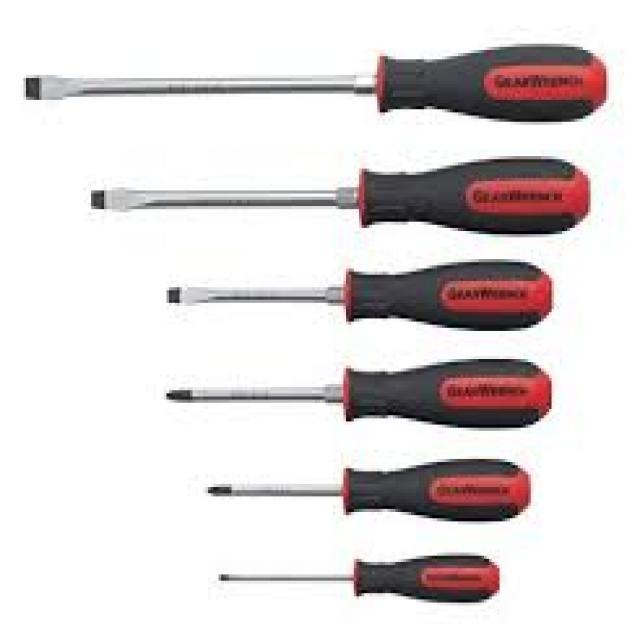screwdriver: (20, 42, 608, 123), (90, 160, 592, 240), (164, 354, 557, 432), (166, 259, 552, 331), (204, 456, 532, 524), (217, 552, 501, 606)
